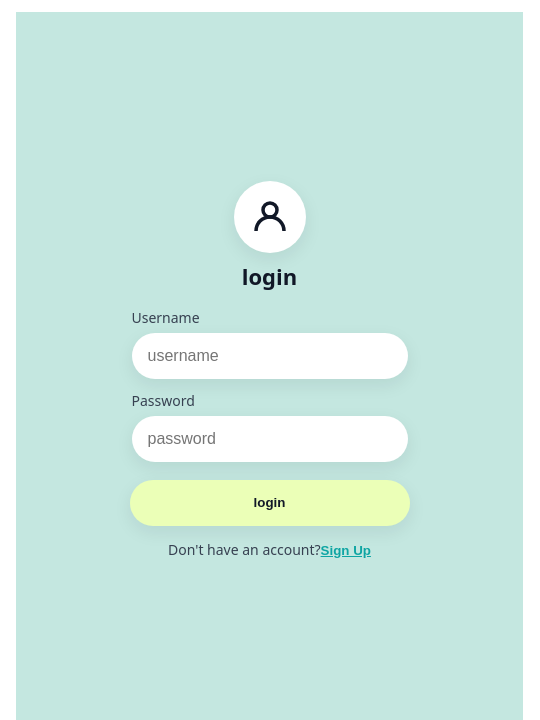
Test: Login Component › network error shows generic error
Type "admin" into the field labelled "Username" at coordinates (270, 356), box x1=132 y1=333 x2=408 y2=379
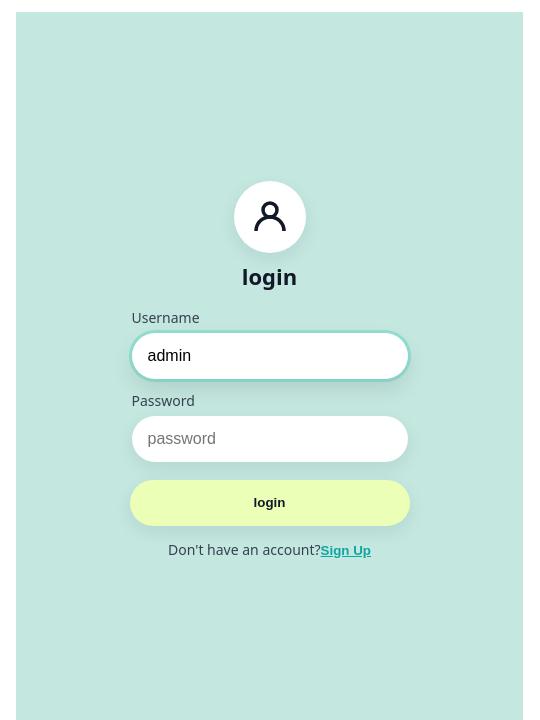
Type "password123" into the password field labelled "Password" at coordinates (270, 439), box x1=132 y1=416 x2=408 y2=462
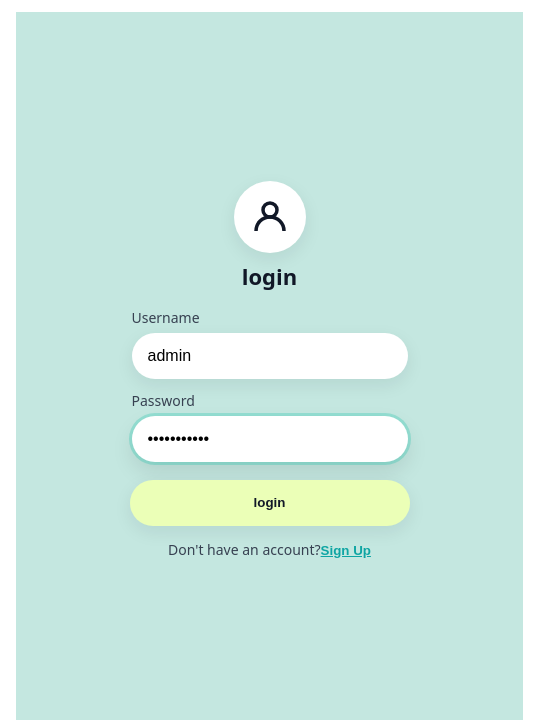
Submit the form, box x1=130 y1=308 x2=410 y2=526
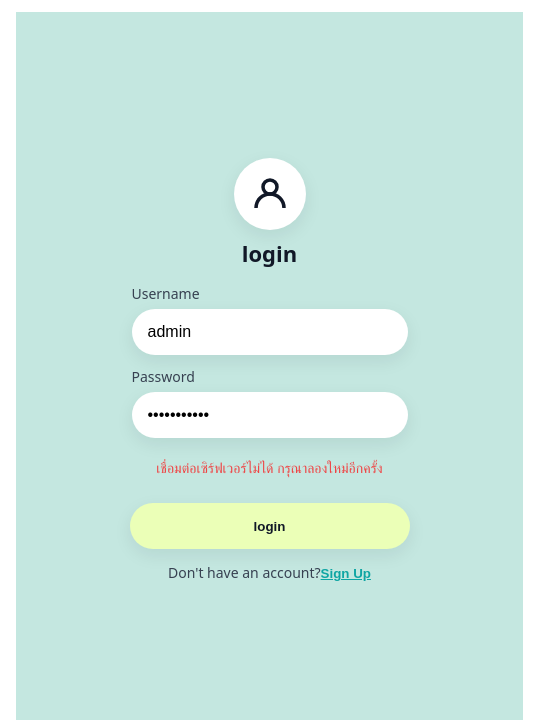
Now the text "เชื่อมต่อเซิร์ฟเวอร์ไม่ได้ กรุณาลองใหม่อีกครั้ง" is shown, box x1=156 y1=458 x2=383 y2=477
Now the text with test id "login-error" shows "เชื่อมต่อเซิร์ฟเวอร์ไม่ได้", box x1=156 y1=458 x2=382 y2=477
